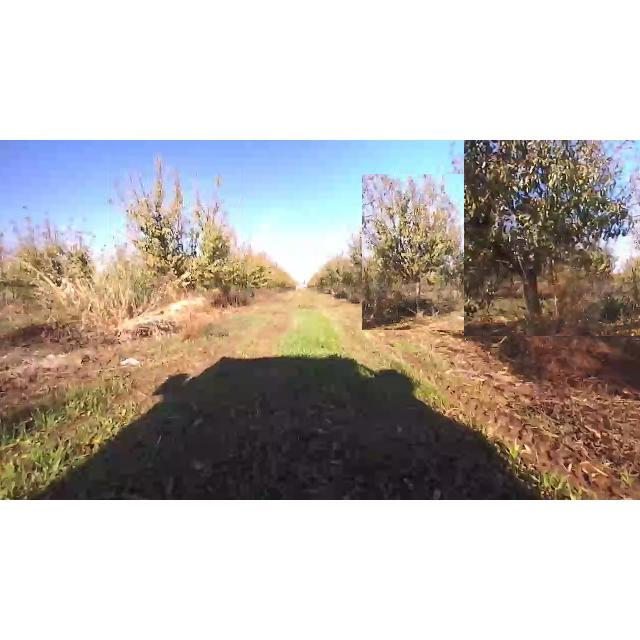direk: (464, 140, 640, 336), (108, 160, 242, 308), (362, 174, 474, 330)
